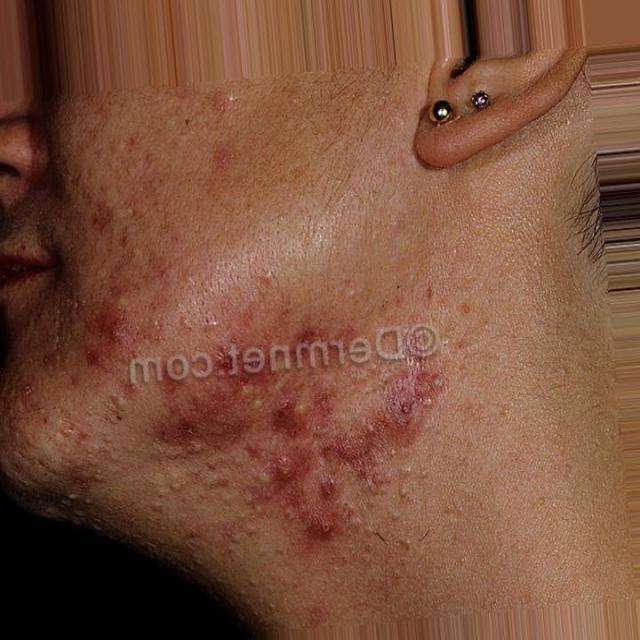acne: (350, 344, 443, 488), (280, 351, 342, 547), (158, 380, 262, 448), (84, 304, 144, 374)
